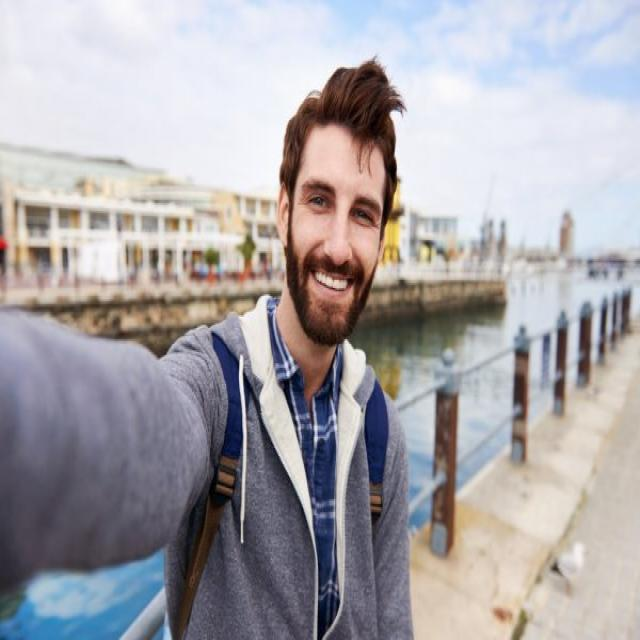earlobe: (276, 180, 290, 247)
